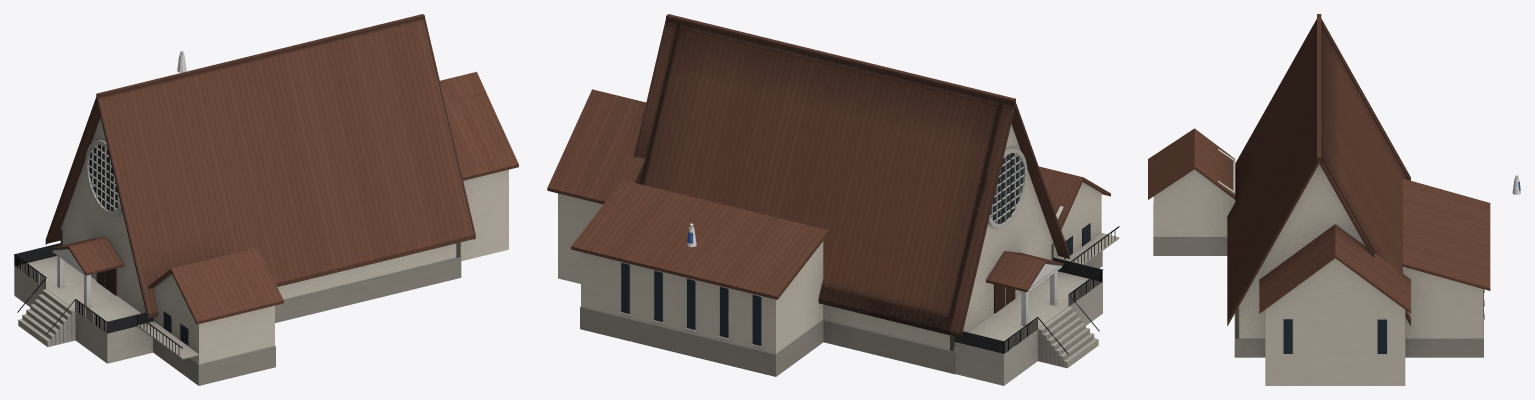
The model's file is kosciol.glb.
3 renders of one model, left to right at view 1: azimuth 30°, elevation 25°; view 2: azimuth 150°, elevation 25°; view 3: azimuth 270°, elevation 25°, orthographic. The views are drawn at different scales.
Parts seen in each view (by area): view 1: kosciol; view 2: kosciol; view 3: kosciol.
Boxes of the visible parts, x1=… form: kosciol: x1=14, y1=14, x2=518, y2=385; kosciol: x1=547, y1=14, x2=1119, y2=385; kosciol: x1=1148, y1=14, x2=1520, y2=385.
Bounding box in the file's own units: 41.1 × 19.6 × 32.46.
1 material, 1 textured.
